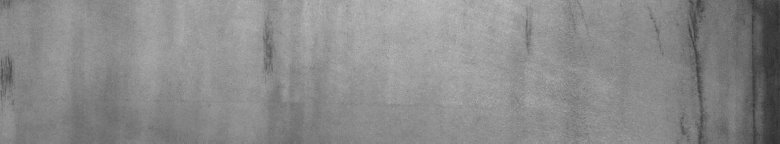ka: (650, 4, 776, 136)
